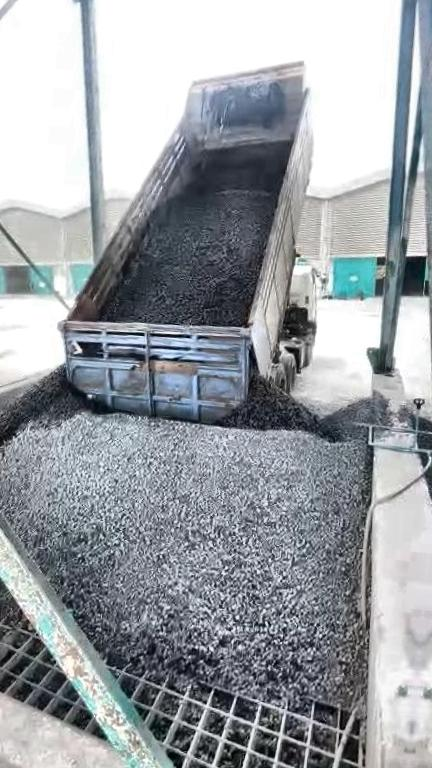gravel: (0, 370, 393, 708), (103, 144, 290, 325), (0, 474, 18, 618)
sand: (0, 338, 21, 409)
